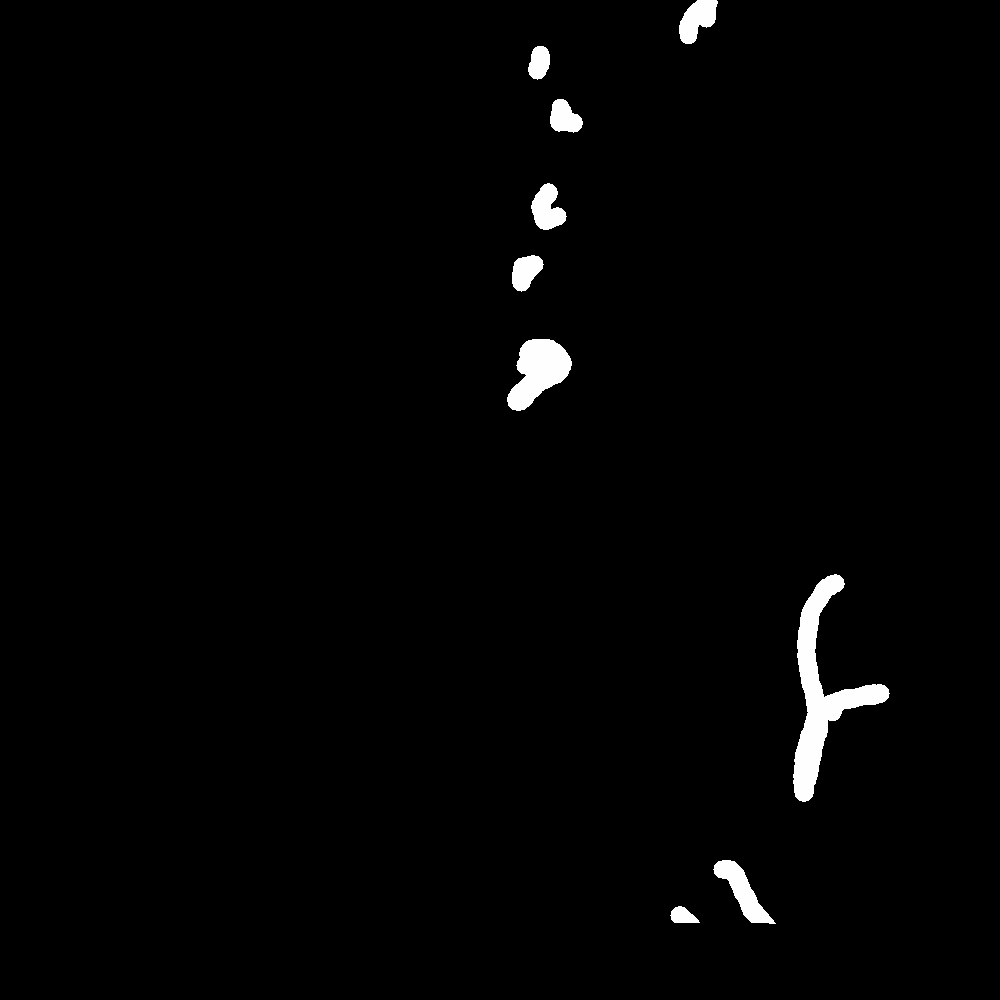illegal: (788, 577, 879, 789), (514, 173, 564, 294), (508, 334, 574, 409), (530, 54, 575, 138), (676, 782, 778, 815), (694, 1, 729, 29), (668, 903, 698, 928)
